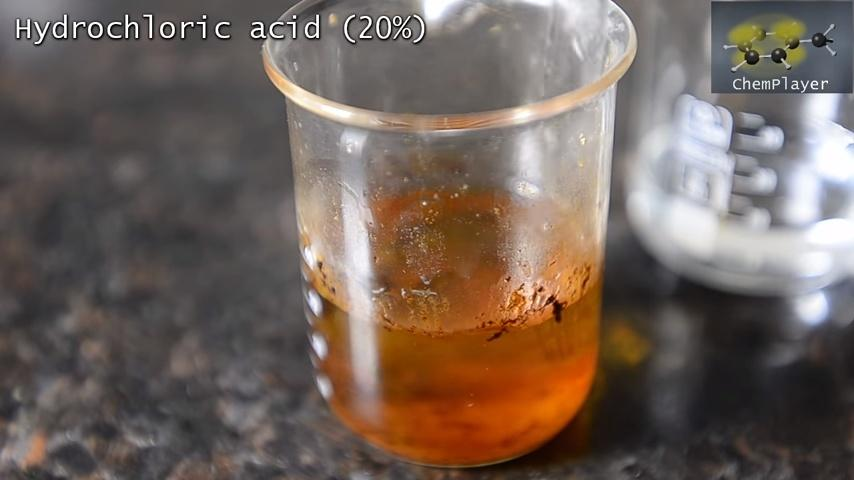Beaker: (263, 43, 626, 467)
